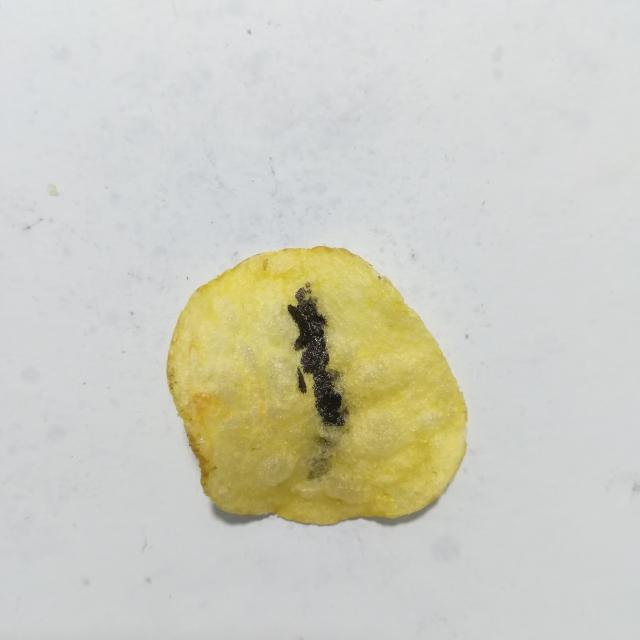chip: (167, 247, 467, 524)
damaged: (288, 284, 345, 426), (297, 367, 306, 394)
semi-damaged: (308, 364, 351, 479)
